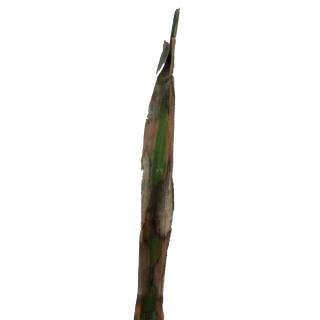Hawar-Daun: (142, 160, 176, 251), (162, 12, 178, 128), (141, 248, 169, 295)
